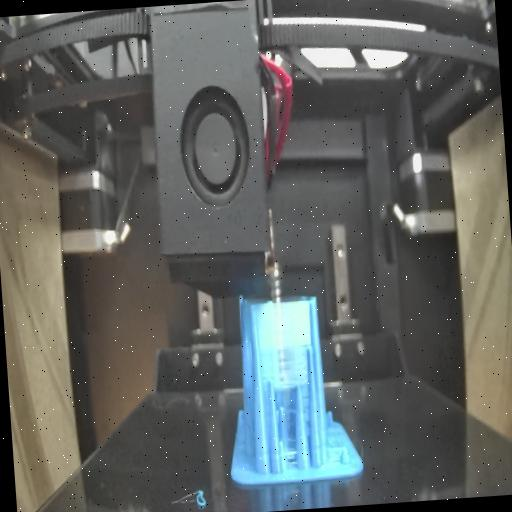stringing: (254, 298, 314, 390), (280, 404, 301, 476)
